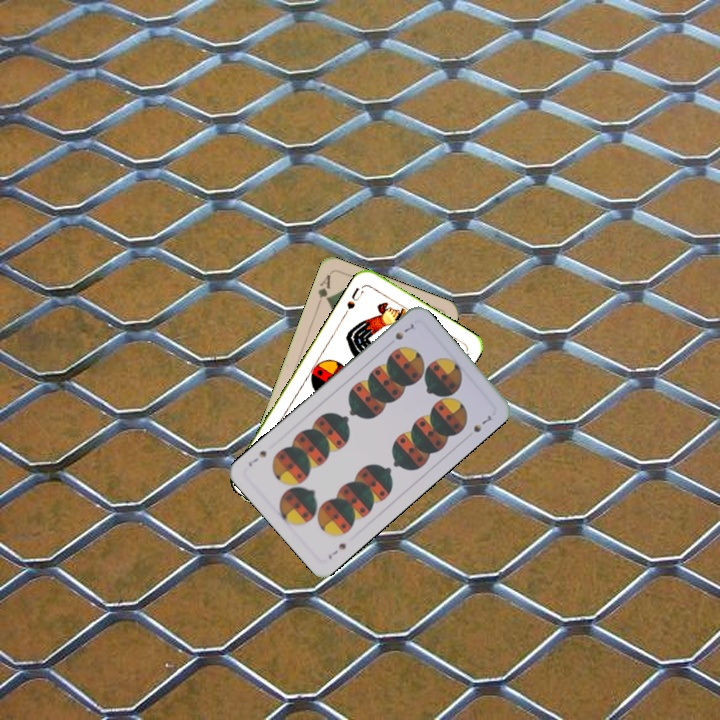GA: (313, 270, 333, 310)
S7: (391, 319, 417, 343), (324, 539, 349, 562)
SU: (340, 281, 367, 318)
